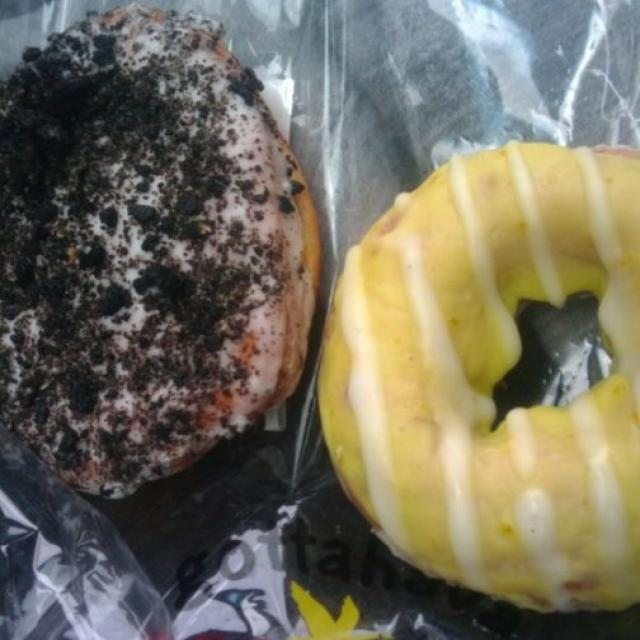Donuts: (6, 5, 640, 640)
